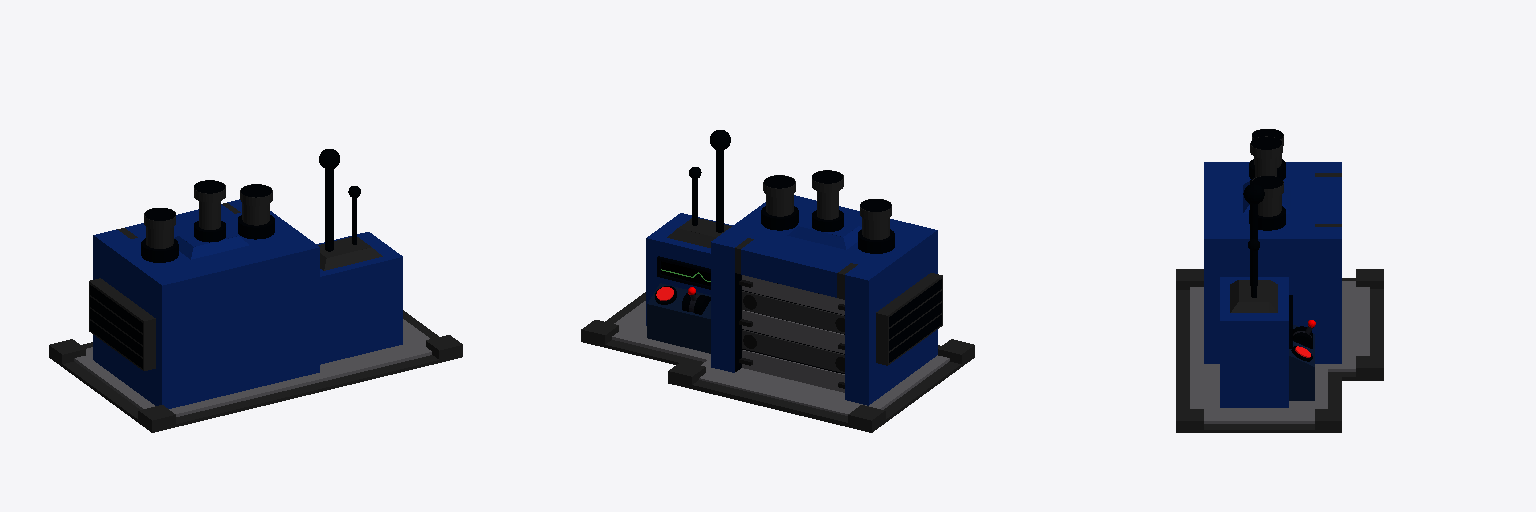
The model's file is Fabric.obj.
The picture shows the model from 3 angles: view 1: azimuth 30°, elevation 25°; view 2: azimuth 150°, elevation 25°; view 3: azimuth 270°, elevation 25°; orthographic projection.
Visible parts, largest first — view 1: Part82, Part85, Part53, Part83, Part91, Part105, Part81, Part78, Part90, Part107, Part92, Part96 (+16 smaller); view 2: Part85, Part83, Part84, Part53, Part52, Part81, Part70, Part78, Part73, Part89, Part72, Part71 (+26 smaller); view 3: Part83, Part53, Part81, Part105, Part91, Part96, Part106, Part84, Part85, Part86, Part98, Part104 (+9 smaller).
Boxes of the visible parts, x1,y1,x2,y2 form: Part82: [180, 249, 295, 404]; Part85: [93, 229, 185, 408]; Part53: [317, 232, 402, 364]; Part83: [227, 199, 319, 377]; Part91: [176, 355, 438, 426]; Part105: [169, 347, 431, 416]; Part81: [131, 213, 289, 274]; Part78: [89, 278, 155, 370]; Part90: [62, 361, 139, 421]; Part107: [81, 360, 154, 409]; Part92: [138, 405, 175, 432]; Part96: [334, 331, 424, 366]; Part85: [845, 224, 937, 405]; Part83: [711, 195, 802, 372]; Part84: [741, 239, 849, 297]; Part53: [646, 213, 732, 325]; Part52: [647, 304, 710, 353]; Part81: [749, 202, 906, 264]; Part70: [742, 310, 844, 353]; Part78: [876, 273, 942, 365]; Part73: [742, 350, 844, 392]; Part89: [692, 380, 847, 426]; Part72: [742, 330, 844, 372]; Part71: [742, 291, 844, 333]; Part83: [1204, 227, 1341, 363]; Part53: [1220, 277, 1288, 407]; Part81: [1216, 173, 1314, 226]; Part105: [1190, 287, 1203, 408]; Part91: [1176, 290, 1189, 408]; Part96: [1204, 374, 1314, 414]; Part106: [1342, 281, 1355, 371]; Part84: [1315, 177, 1341, 223]; Part85: [1204, 162, 1341, 172]; Part86: [1204, 424, 1314, 432]; Part98: [1204, 415, 1314, 423]; Part104: [1356, 287, 1369, 355].
Size of the model in its own units: 53.33 by 33.17 by 30.77.